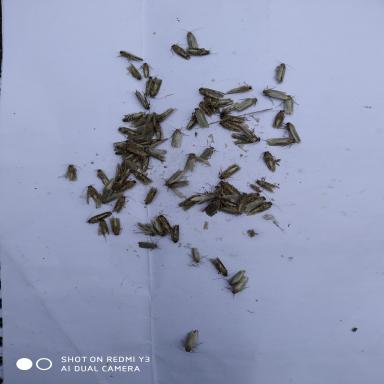pbw: (204, 252, 238, 282), (179, 151, 217, 174), (112, 46, 149, 68), (182, 22, 208, 52), (138, 66, 160, 101), (254, 148, 282, 174), (132, 54, 156, 84), (258, 134, 302, 150), (223, 274, 251, 299), (272, 58, 298, 84), (178, 41, 213, 60), (260, 85, 291, 106), (165, 124, 190, 150), (167, 40, 195, 63), (278, 120, 304, 144), (120, 58, 146, 82), (56, 161, 83, 184), (214, 160, 243, 181), (229, 92, 259, 112), (272, 95, 301, 115), (196, 84, 232, 100), (135, 236, 167, 254), (150, 104, 175, 127), (127, 88, 149, 114), (82, 209, 115, 226), (158, 167, 186, 187), (148, 73, 166, 104), (184, 244, 210, 265), (162, 178, 188, 199), (193, 142, 217, 164), (119, 108, 154, 123), (192, 104, 212, 130), (127, 167, 154, 186), (79, 182, 102, 204), (132, 219, 158, 238), (156, 212, 174, 239), (107, 194, 129, 216), (256, 172, 280, 192), (148, 216, 166, 242), (176, 193, 202, 211), (218, 108, 247, 124), (138, 184, 158, 207), (95, 216, 112, 243), (223, 268, 247, 287), (106, 214, 124, 238), (242, 195, 266, 213), (200, 198, 222, 217), (216, 117, 242, 133), (225, 82, 254, 96), (144, 134, 169, 150), (143, 146, 168, 162), (91, 167, 112, 186), (218, 179, 241, 196), (206, 95, 236, 108), (209, 185, 235, 200), (217, 100, 241, 116), (101, 176, 117, 200), (270, 108, 289, 128), (119, 156, 140, 173), (119, 137, 146, 150), (203, 95, 221, 114), (182, 112, 200, 131), (141, 109, 158, 129), (130, 114, 154, 128), (190, 192, 218, 204), (116, 124, 140, 138), (114, 178, 138, 192), (218, 205, 243, 218), (135, 120, 154, 137), (170, 220, 182, 246), (151, 121, 166, 141), (238, 132, 263, 144), (226, 130, 251, 142), (112, 162, 125, 185), (235, 192, 248, 214), (216, 196, 239, 208), (106, 189, 124, 204), (110, 138, 132, 150), (134, 132, 156, 144), (122, 146, 142, 159), (199, 100, 213, 118), (140, 151, 152, 172), (113, 145, 135, 153), (244, 192, 261, 202), (249, 182, 264, 193)
